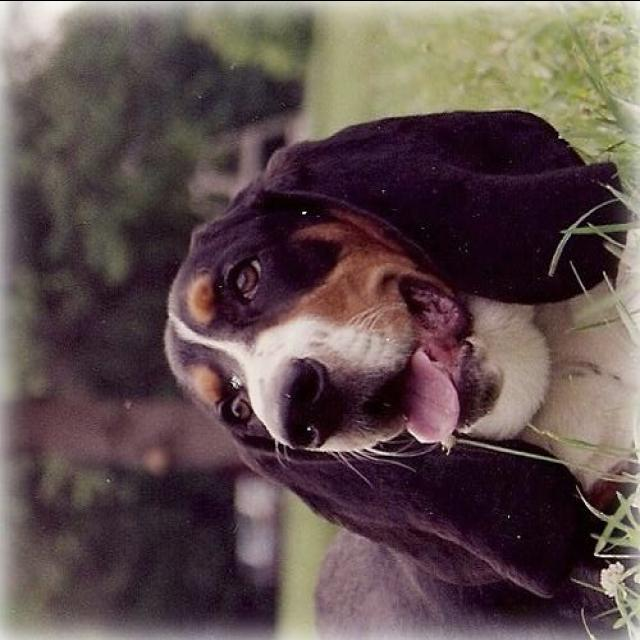basset: (162, 111, 638, 638)
